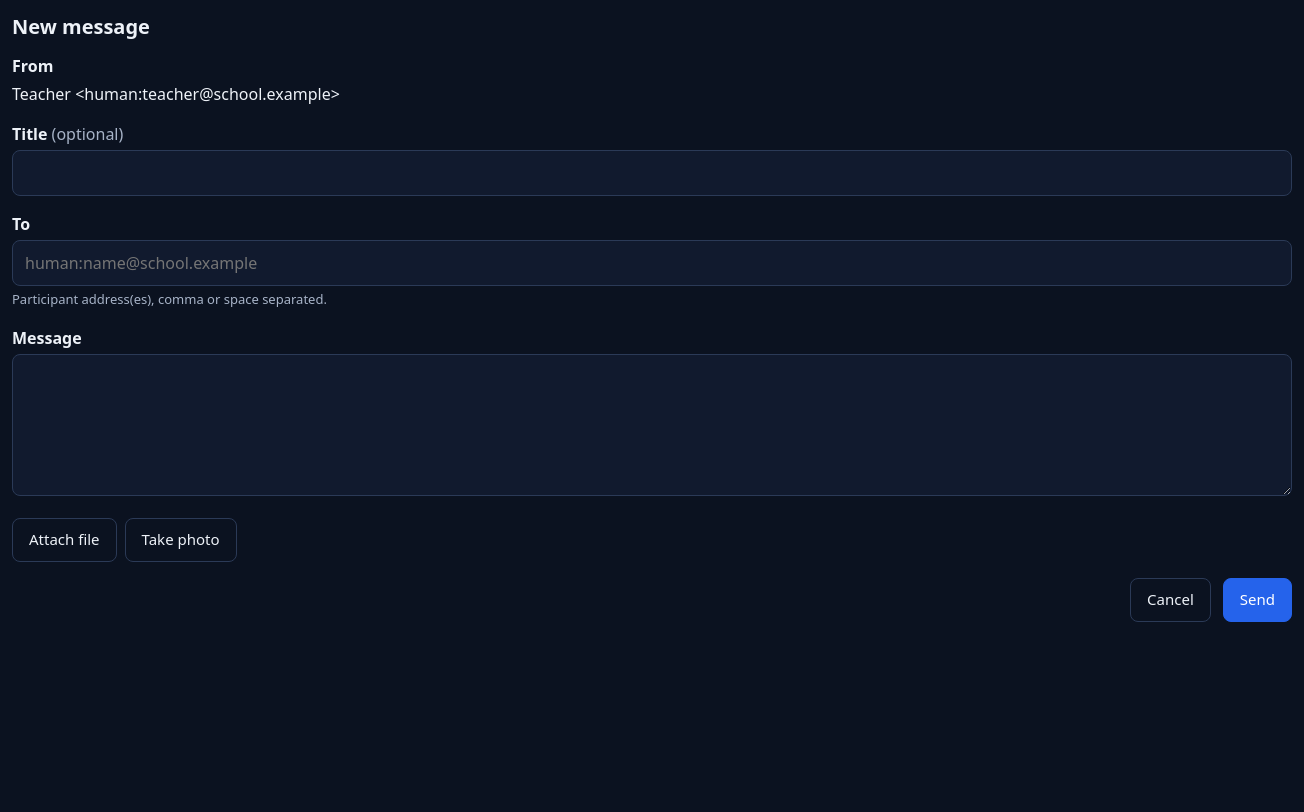
Test: ComposeMessage › requires a recipient before sending
Click the button "Send". click: point(1257, 600)
box: [1223,578,1292,622]
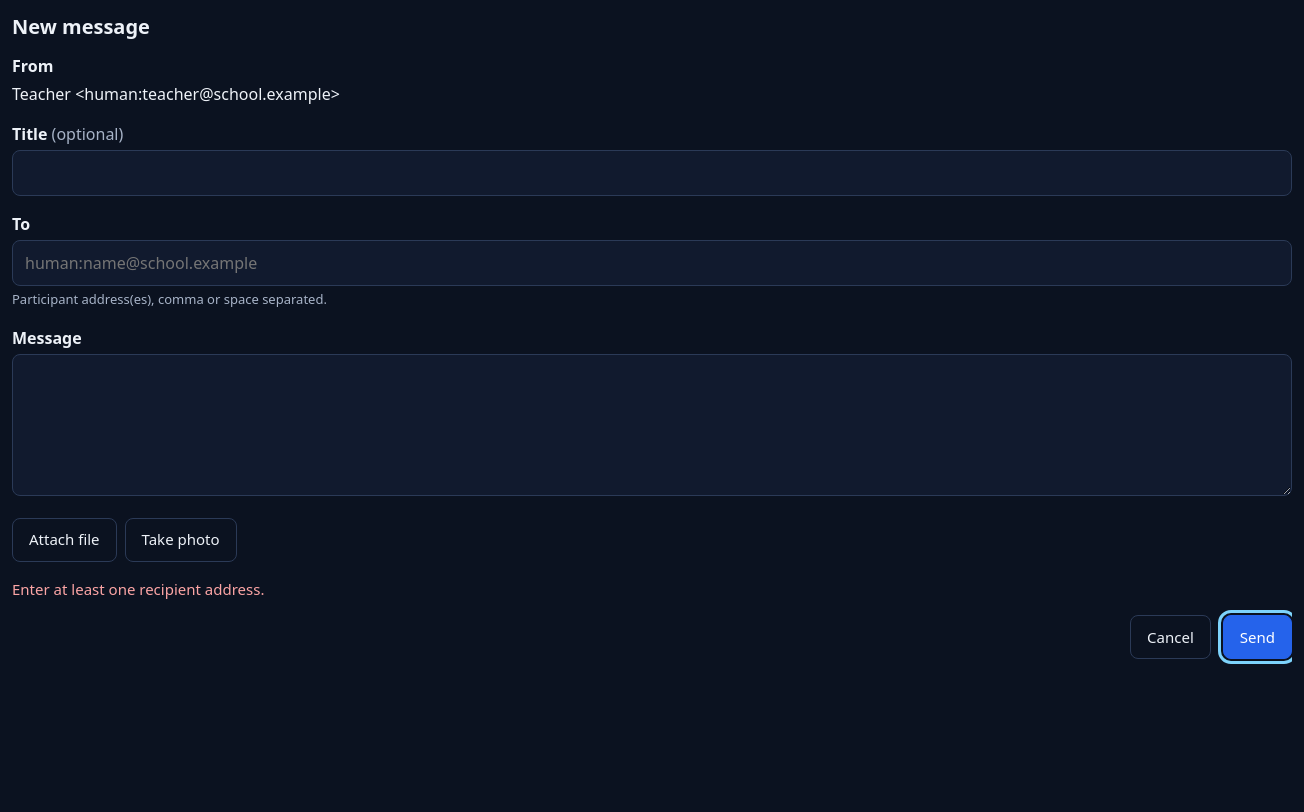
expect the text "Enter at least one recipient address." is shown: met, box [12,578,264,598]
